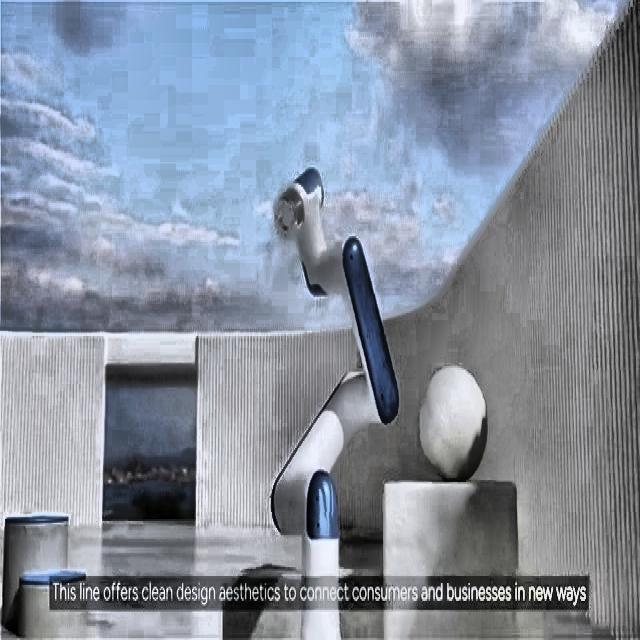robot: (269, 164, 400, 570)
